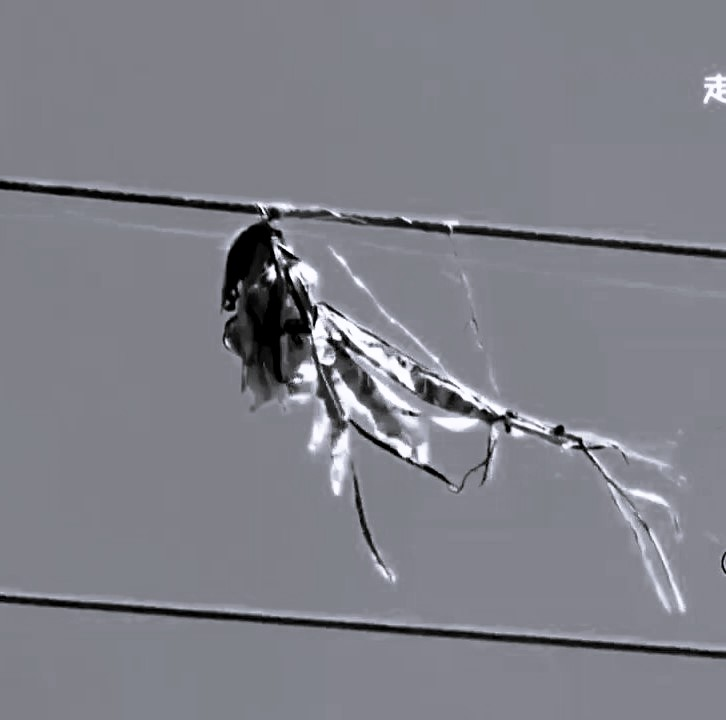wire foreign body: (199, 169, 603, 562)
